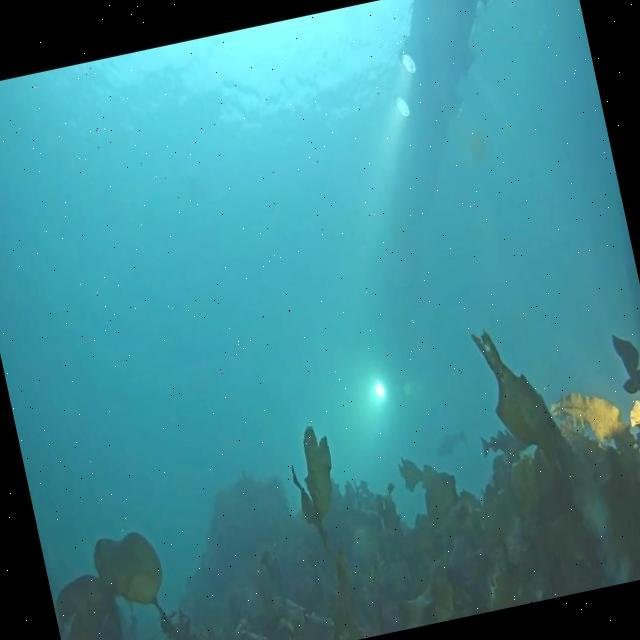fish: (428, 426, 472, 468), (478, 428, 520, 462)
